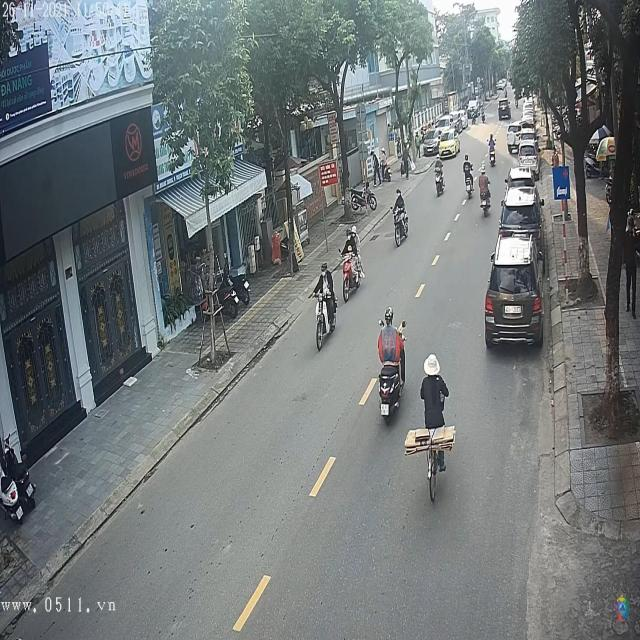car: (485, 248, 543, 348), (499, 191, 544, 238), (504, 180, 537, 209), (437, 130, 460, 159), (506, 123, 523, 155), (499, 99, 513, 119)
motorcycle: (377, 351, 407, 425), (312, 284, 340, 352), (340, 249, 365, 305), (390, 206, 410, 244), (434, 172, 445, 197)
